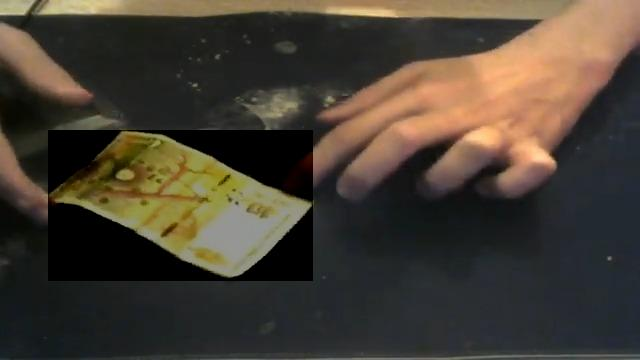10leva: (48, 130, 313, 281)
